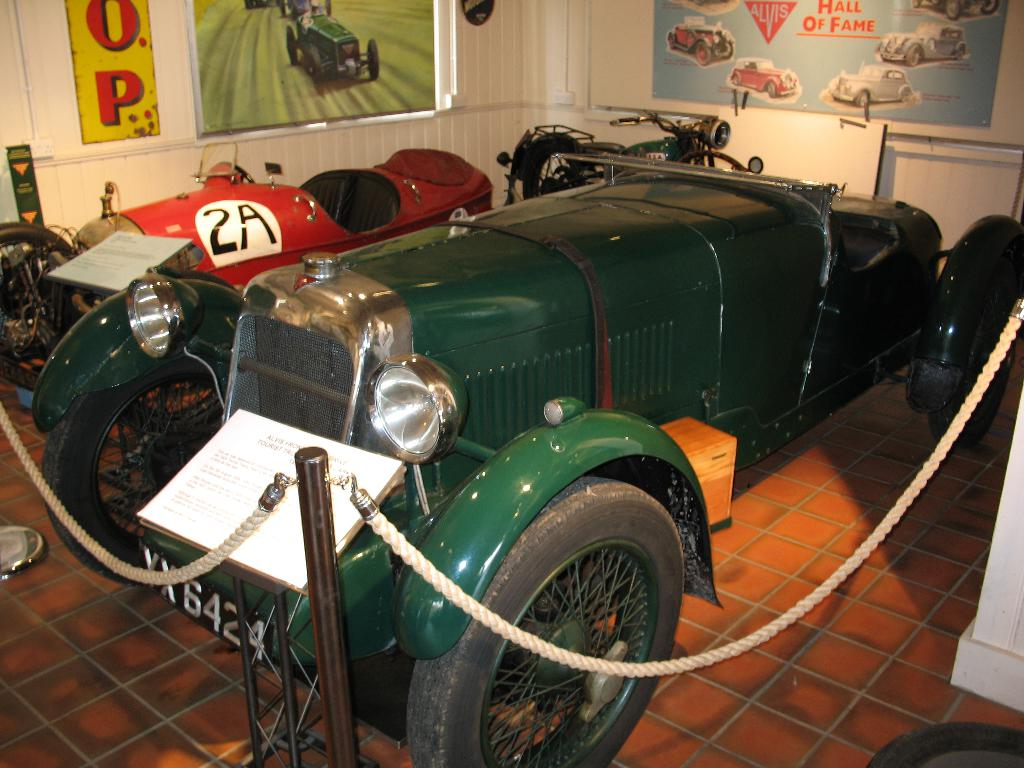mobil: (53, 164, 1013, 745)
